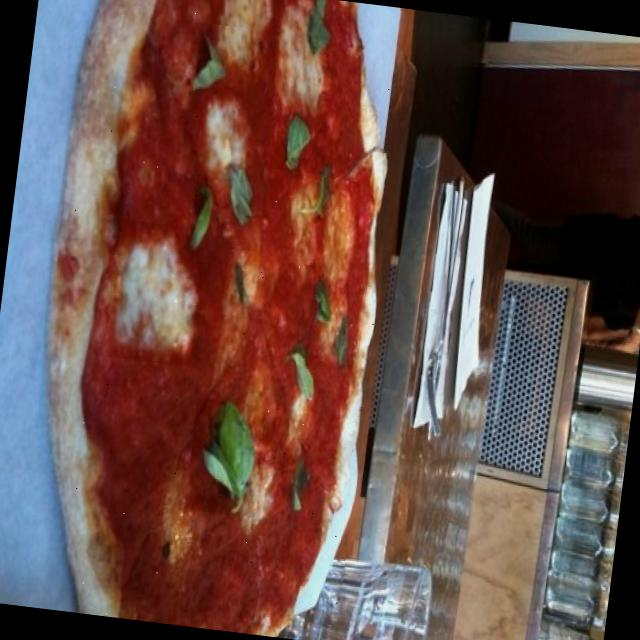basil: (183, 397, 266, 517), (302, 276, 364, 372), (179, 21, 243, 110), (214, 140, 268, 243), (268, 92, 330, 174), (270, 435, 326, 525), (186, 174, 230, 264), (277, 338, 324, 412), (220, 248, 264, 318), (300, 0, 346, 54)
cheese: (100, 218, 214, 368), (263, 0, 336, 112), (309, 178, 364, 290), (207, 0, 276, 70), (274, 176, 328, 262), (192, 104, 252, 181), (234, 456, 286, 532)
pizza: (49, 0, 385, 634)
